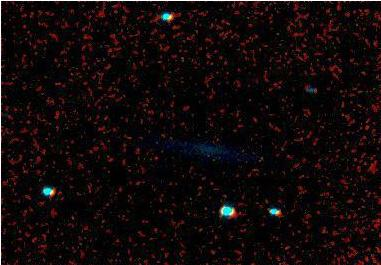star: (138, 126, 168, 156)
